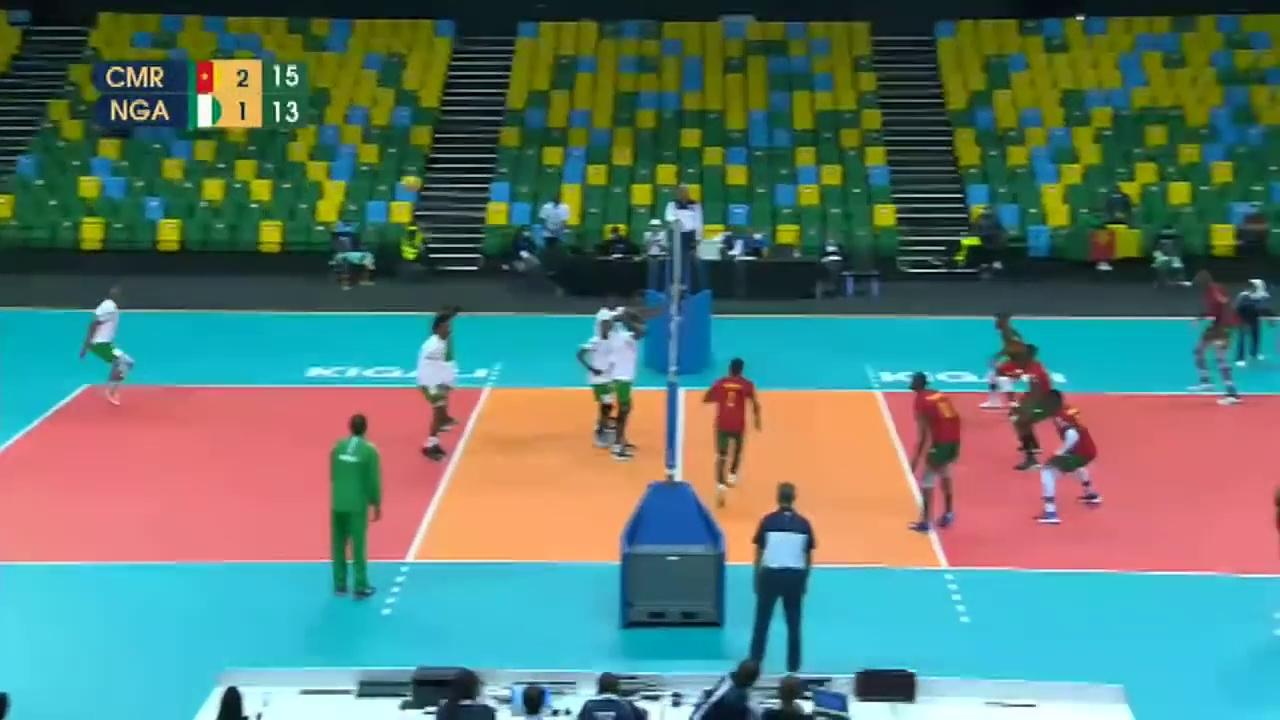player: (1029, 386, 1113, 528), (898, 371, 962, 528), (596, 285, 654, 436), (997, 339, 1064, 465), (707, 354, 758, 504), (80, 287, 133, 415), (1193, 269, 1241, 400), (977, 301, 1031, 411), (430, 296, 471, 439), (616, 314, 656, 458), (581, 316, 620, 442), (416, 318, 449, 464)
refree: (746, 476, 815, 673), (661, 182, 701, 297), (1229, 266, 1275, 363)
